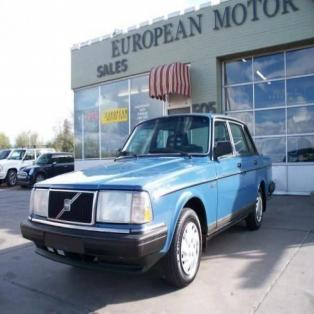Auto: (17, 111, 278, 288)
